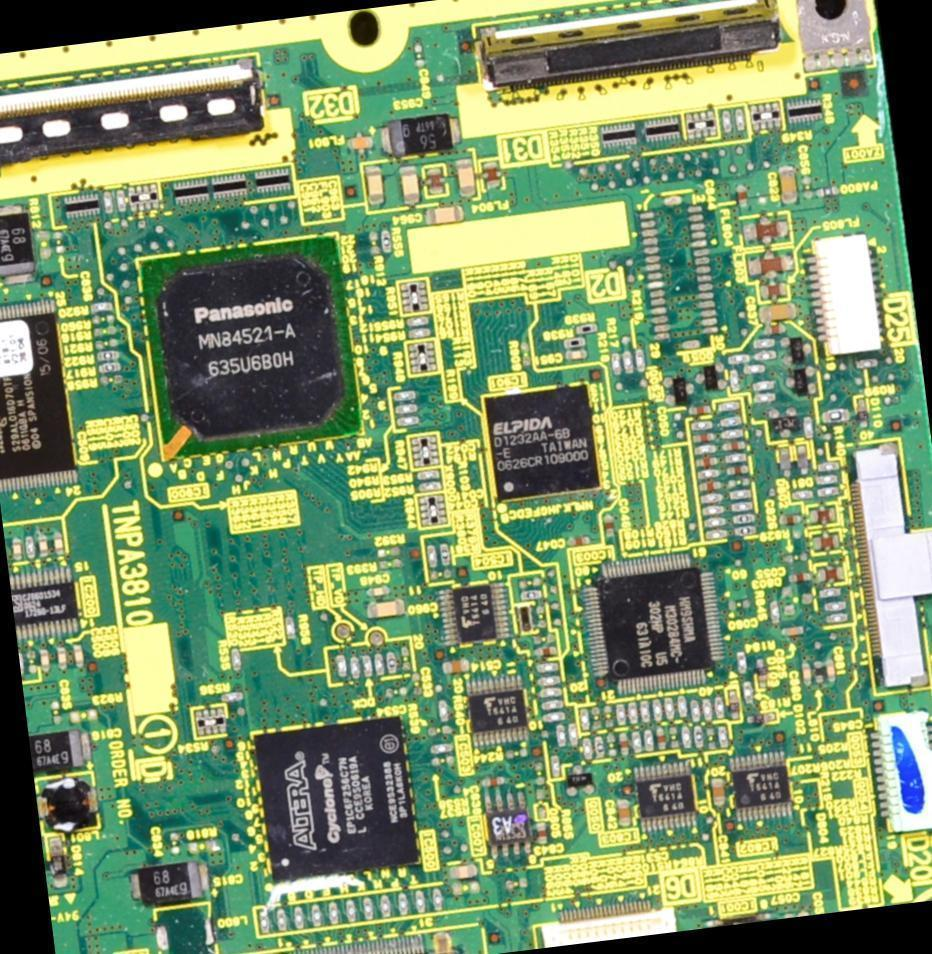Capacitor: (126, 858, 217, 910), (377, 114, 464, 155), (0, 198, 36, 281), (28, 728, 93, 772), (777, 162, 802, 211), (756, 300, 801, 327), (362, 162, 387, 208), (363, 598, 408, 623), (398, 163, 421, 209), (456, 157, 479, 200), (422, 204, 464, 225), (444, 864, 481, 886), (708, 776, 727, 807), (616, 798, 633, 828), (50, 531, 68, 559), (10, 536, 26, 567), (801, 172, 816, 205), (47, 699, 65, 726), (382, 685, 410, 702), (114, 186, 129, 217), (442, 658, 471, 674), (165, 830, 182, 857), (34, 535, 52, 560), (409, 673, 425, 701), (780, 623, 806, 640), (70, 640, 85, 669), (101, 187, 115, 217), (364, 585, 393, 599), (602, 513, 617, 540), (54, 647, 69, 674), (775, 512, 803, 526), (735, 185, 752, 208), (564, 349, 590, 364), (616, 732, 631, 758), (535, 821, 550, 847), (721, 438, 746, 453), (800, 664, 815, 689), (687, 403, 713, 417), (562, 534, 590, 547), (825, 657, 838, 685), (50, 229, 65, 253), (694, 455, 721, 468), (723, 463, 750, 476), (655, 726, 668, 753), (788, 571, 812, 585), (533, 647, 558, 660), (39, 648, 51, 675), (690, 433, 716, 445), (696, 480, 722, 492), (780, 911, 797, 918)
Connector: (467, 0, 789, 92), (0, 57, 267, 161), (851, 439, 931, 700), (810, 235, 893, 359), (865, 702, 931, 839), (533, 895, 678, 948)
IC: (137, 235, 362, 460), (247, 711, 423, 886), (575, 553, 729, 694), (0, 299, 83, 495), (484, 386, 604, 505), (9, 568, 78, 647), (463, 668, 528, 748), (435, 579, 509, 647), (634, 762, 700, 837), (728, 751, 795, 823), (476, 787, 530, 859), (699, 911, 772, 928)
Resistor: (635, 698, 656, 726), (69, 706, 99, 725), (36, 230, 53, 263), (820, 408, 851, 426), (450, 881, 485, 896), (333, 652, 349, 684), (21, 535, 38, 564), (187, 839, 216, 856), (425, 540, 440, 572), (701, 515, 730, 531), (347, 651, 363, 680), (674, 691, 691, 718), (663, 695, 679, 723), (391, 386, 417, 403), (401, 315, 430, 330), (398, 643, 412, 674), (379, 226, 394, 254), (392, 402, 420, 417), (517, 575, 545, 590), (284, 615, 299, 643), (727, 367, 743, 393), (716, 399, 742, 415), (735, 651, 751, 677), (612, 703, 628, 729), (800, 414, 817, 438), (733, 106, 747, 135), (783, 550, 810, 565), (687, 698, 702, 725), (689, 419, 717, 433), (384, 648, 398, 676), (404, 326, 430, 341), (229, 646, 244, 672), (823, 610, 849, 625), (430, 742, 456, 757), (554, 723, 569, 749), (692, 722, 705, 752), (719, 106, 734, 131), (365, 232, 380, 257), (92, 326, 117, 341), (753, 348, 778, 363), (752, 391, 777, 406), (767, 600, 782, 625), (650, 696, 665, 721), (604, 732, 619, 757), (679, 724, 694, 749), (715, 723, 730, 748), (531, 759, 546, 784), (610, 349, 624, 375), (537, 674, 563, 688), (625, 699, 639, 725), (629, 730, 643, 756), (632, 348, 647, 372), (437, 541, 452, 565), (623, 349, 636, 376), (416, 480, 443, 493), (742, 361, 767, 375), (379, 557, 404, 571), (742, 681, 756, 706), (642, 728, 656, 753), (591, 736, 605, 761), (85, 303, 114, 315), (93, 338, 119, 351), (560, 337, 586, 350), (601, 703, 614, 729), (378, 545, 402, 559), (700, 506, 724, 520), (823, 599, 847, 613), (703, 725, 717, 749), (90, 314, 115, 327), (697, 490, 722, 503), (817, 587, 842, 600), (360, 653, 373, 678), (732, 512, 755, 526), (751, 338, 775, 351), (817, 460, 841, 473), (727, 489, 753, 501), (816, 486, 842, 498), (26, 649, 38, 675), (534, 606, 547, 630), (536, 661, 560, 674), (580, 737, 593, 761), (576, 324, 598, 338), (396, 415, 421, 427), (729, 500, 754, 512), (703, 527, 728, 539), (518, 589, 543, 601), (721, 428, 744, 441), (712, 697, 725, 720), (434, 755, 457, 768), (538, 687, 565, 698), (417, 469, 441, 481), (567, 722, 579, 746), (726, 477, 752, 488), (219, 691, 245, 702), (539, 700, 565, 711), (590, 706, 603, 728), (669, 723, 680, 749), (696, 468, 719, 480), (815, 474, 840, 485), (375, 653, 386, 678), (727, 353, 749, 365), (695, 443, 717, 455), (542, 712, 566, 723), (702, 699, 713, 722), (791, 491, 812, 503), (548, 756, 560, 777), (750, 380, 772, 391), (734, 525, 756, 536), (578, 708, 589, 730), (96, 350, 120, 360), (101, 361, 121, 373), (716, 415, 739, 425), (18, 650, 27, 675), (724, 453, 746, 463), (4, 541, 10, 564)
Transistor: (691, 360, 732, 395), (786, 367, 821, 401), (766, 407, 800, 440), (778, 334, 813, 365), (661, 373, 692, 407)
